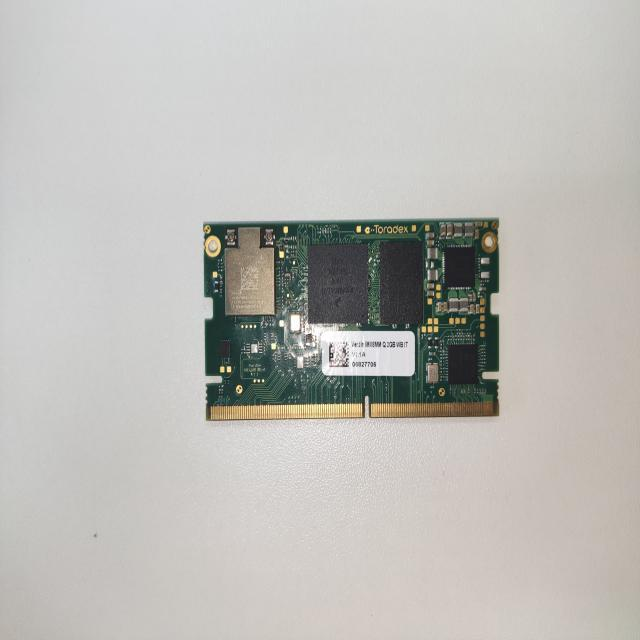som: (192, 213, 522, 429)
